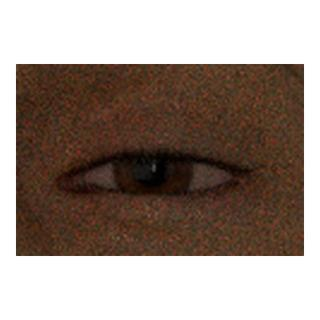pupil: (136, 154, 168, 186)
